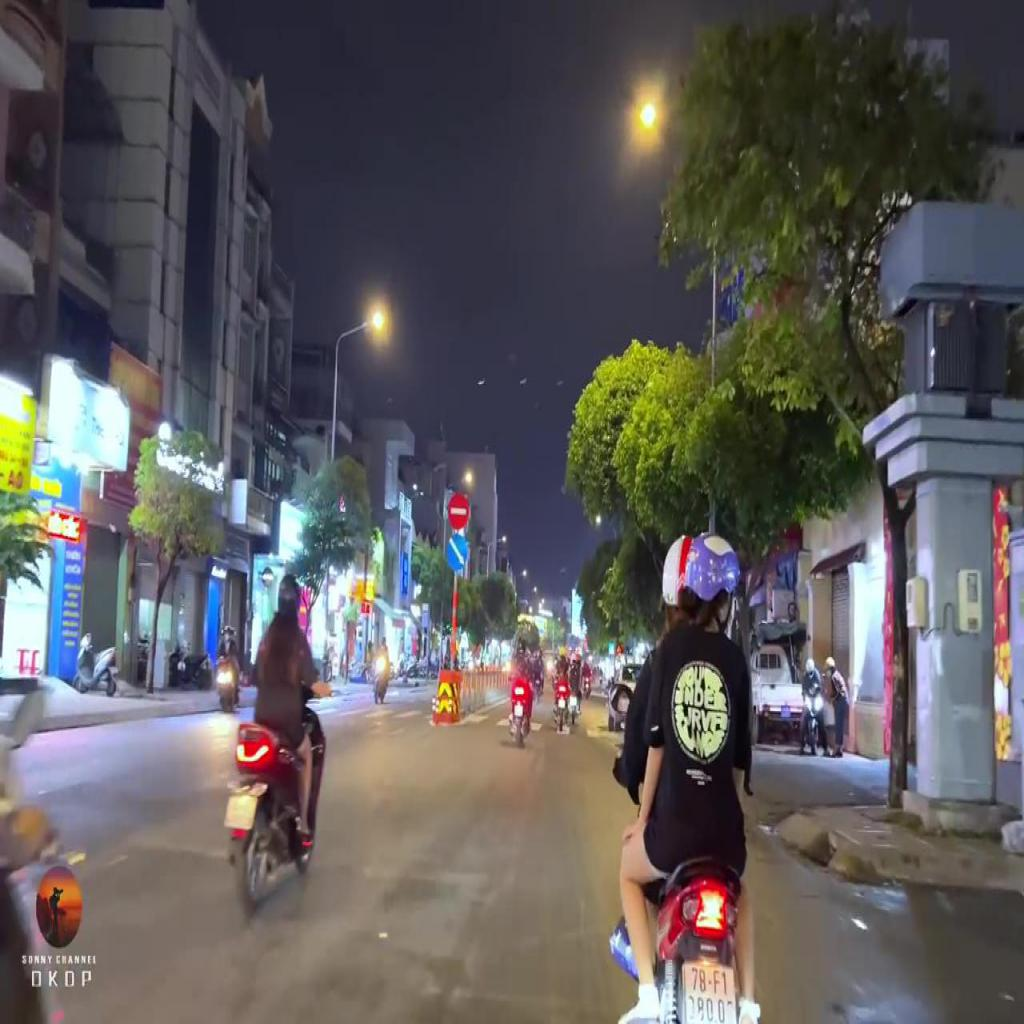cam_xe_di_nguoc_chieu: (448, 494, 470, 529)
huong_phai_di_vuot_chuong_ngai_vat_phai: (446, 533, 468, 573)
